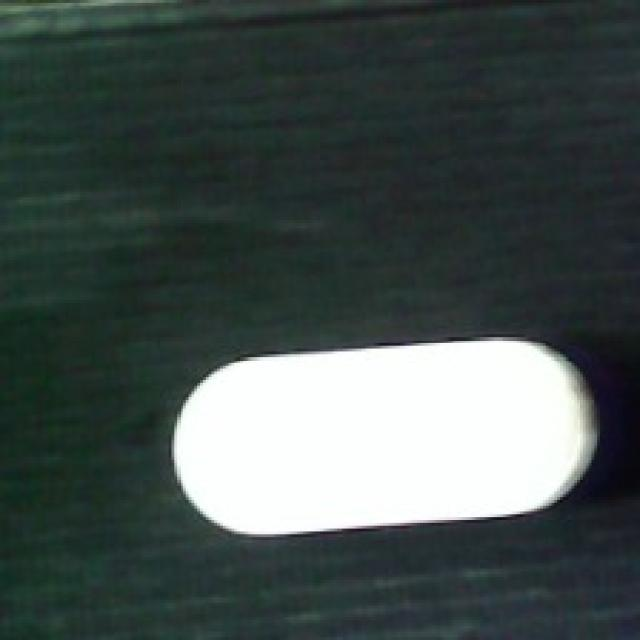no-defect: (166, 331, 603, 541)
